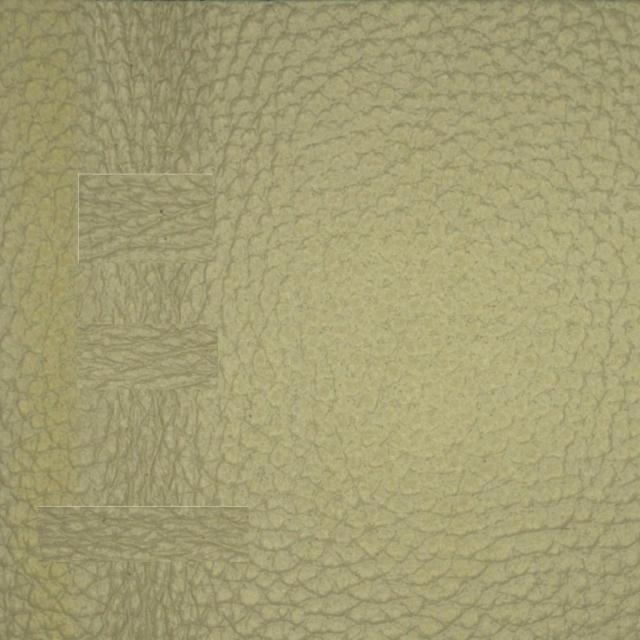Healed Injury: (19, 466, 296, 594), (48, 140, 264, 284), (63, 306, 275, 423)
